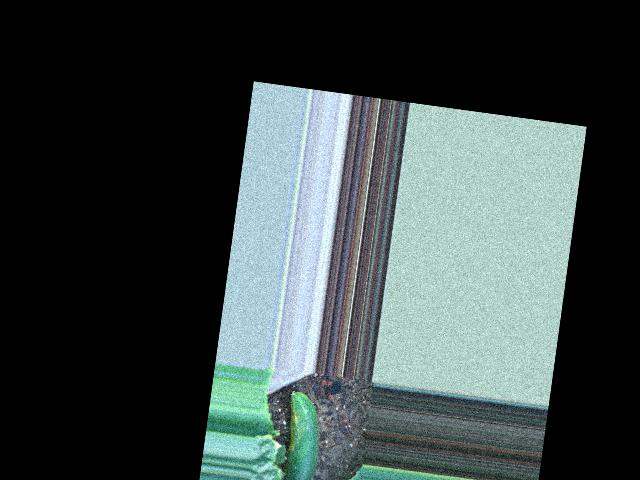cucumber: (277, 390, 325, 480)
